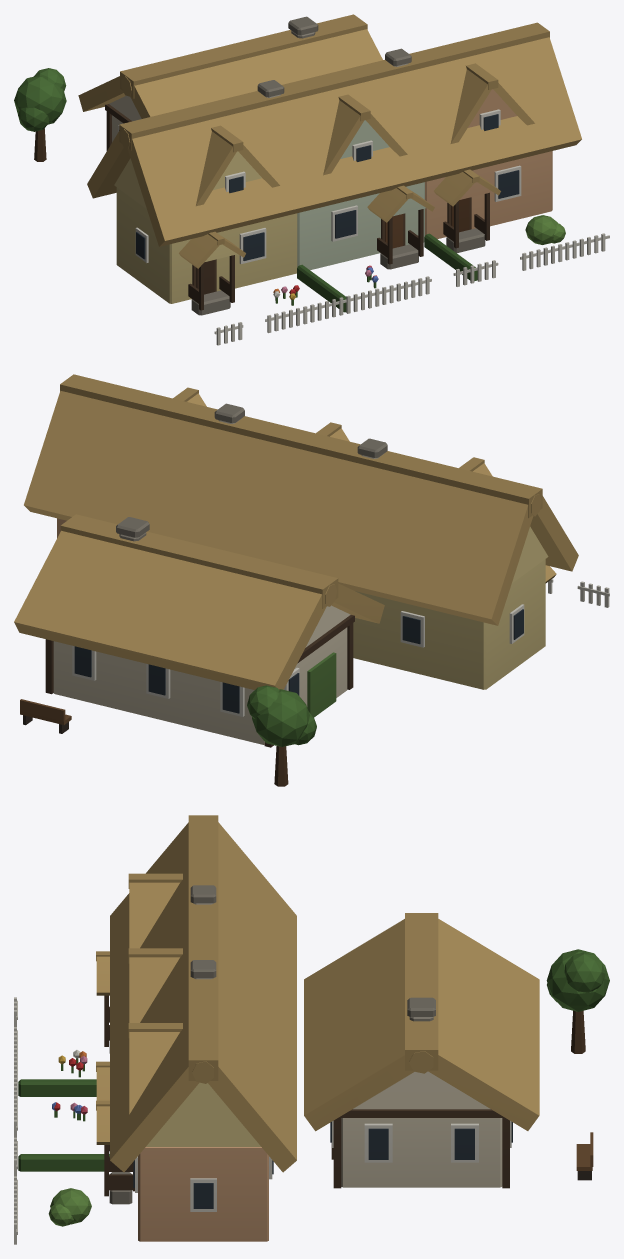
Rendered from terrace.glb.
3 renders of one model, top to bottom at view 1: azimuth 30°, elevation 25°; view 2: azimuth 150°, elevation 25°; view 3: azimuth 270°, elevation 25°, orthographic. The views are drawn at different scales.
Visible parts, largest first — view 1: terrace_model; view 2: terrace_model; view 3: terrace_model.
Part boxes in pixels (x1,y1,x2,y2): terrace_model: (14, 14, 609, 345); terrace_model: (14, 374, 609, 786); terrace_model: (14, 815, 609, 1244).
Bounding box in the file's own units: 1.82 × 0.728 × 1.86.
